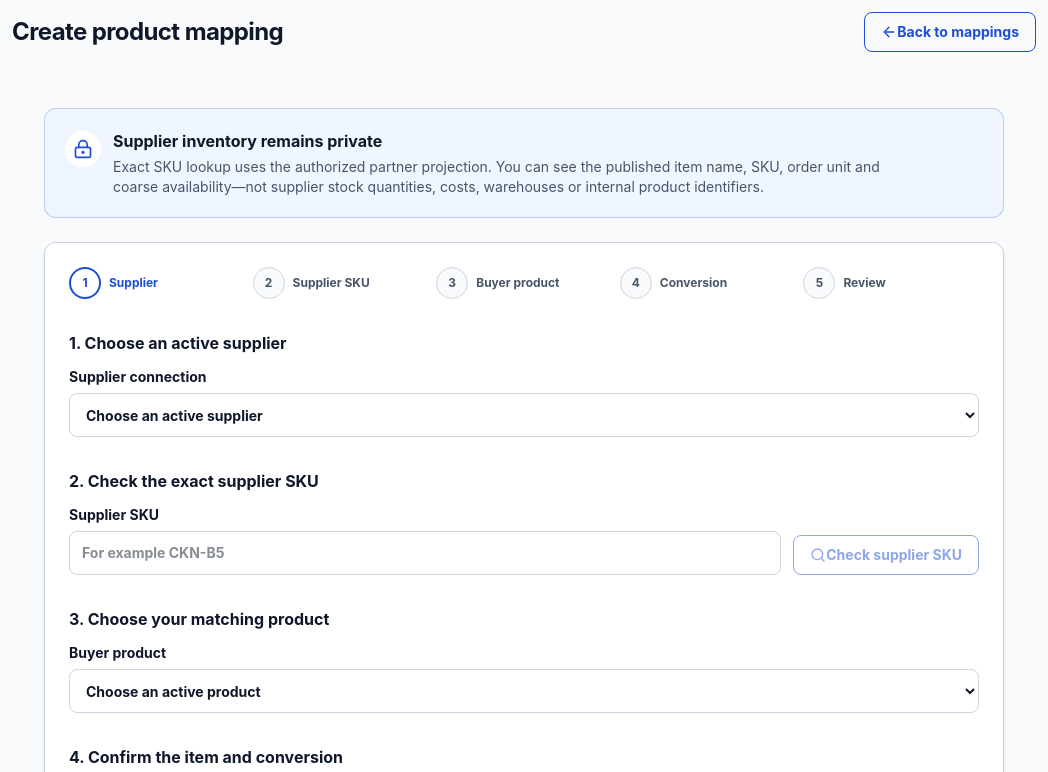
ProductMappingWizardScreen › shows SKU_NOT_FOUND when lookup fails with SKU_NOT_FOUND
Select "Supplier A (@supp-a)" in the dropdown labelled "Supplier connection". click: (524, 415)
box: [69,393,979,437]
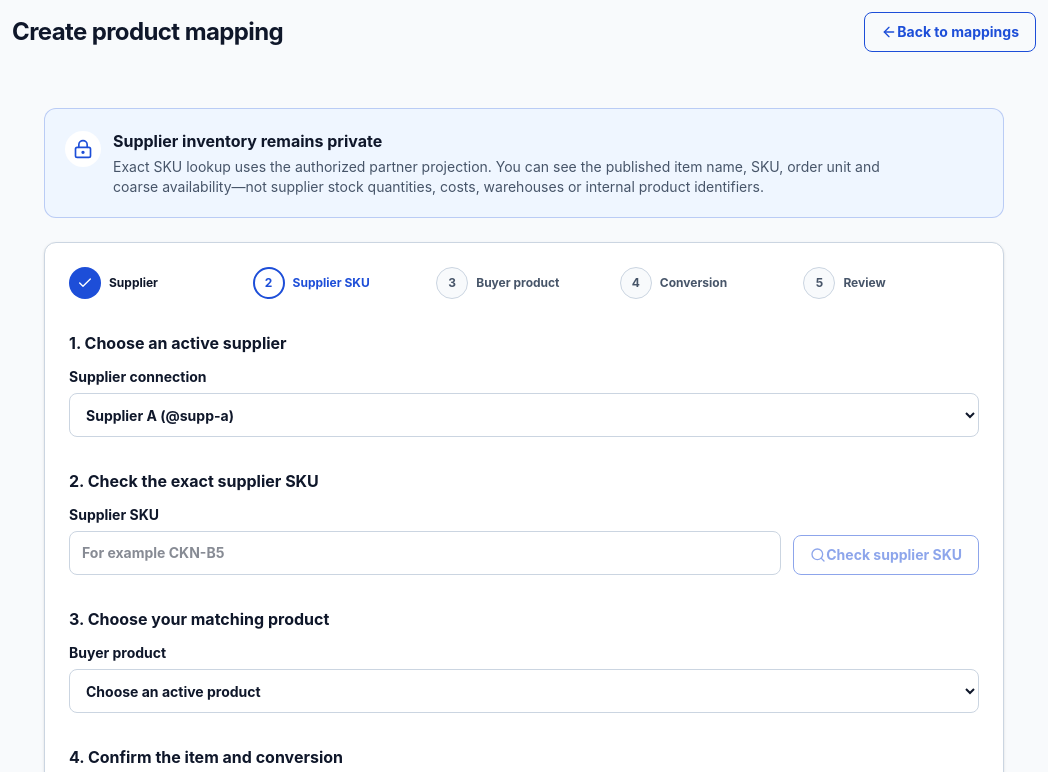
Type "SKU123" into the field labelled "Supplier SKU". click: (425, 553)
box: [69,531,781,575]
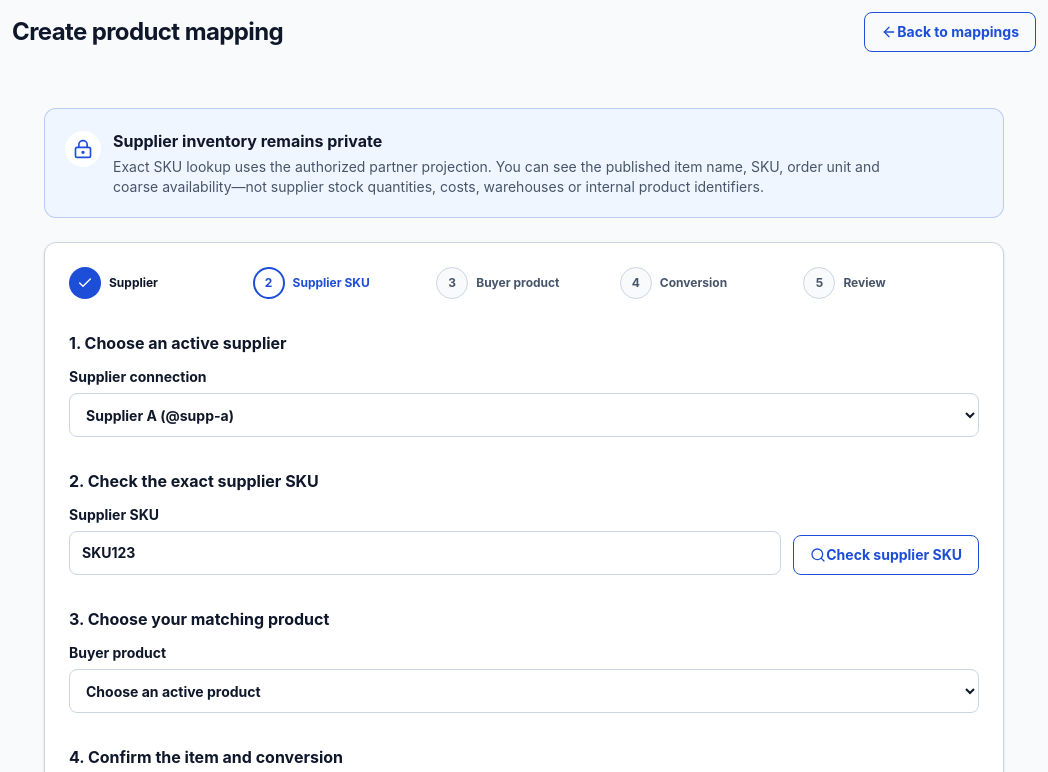
Click the button "Check supplier SKU". click: (886, 555)
box: [793,535,979,575]
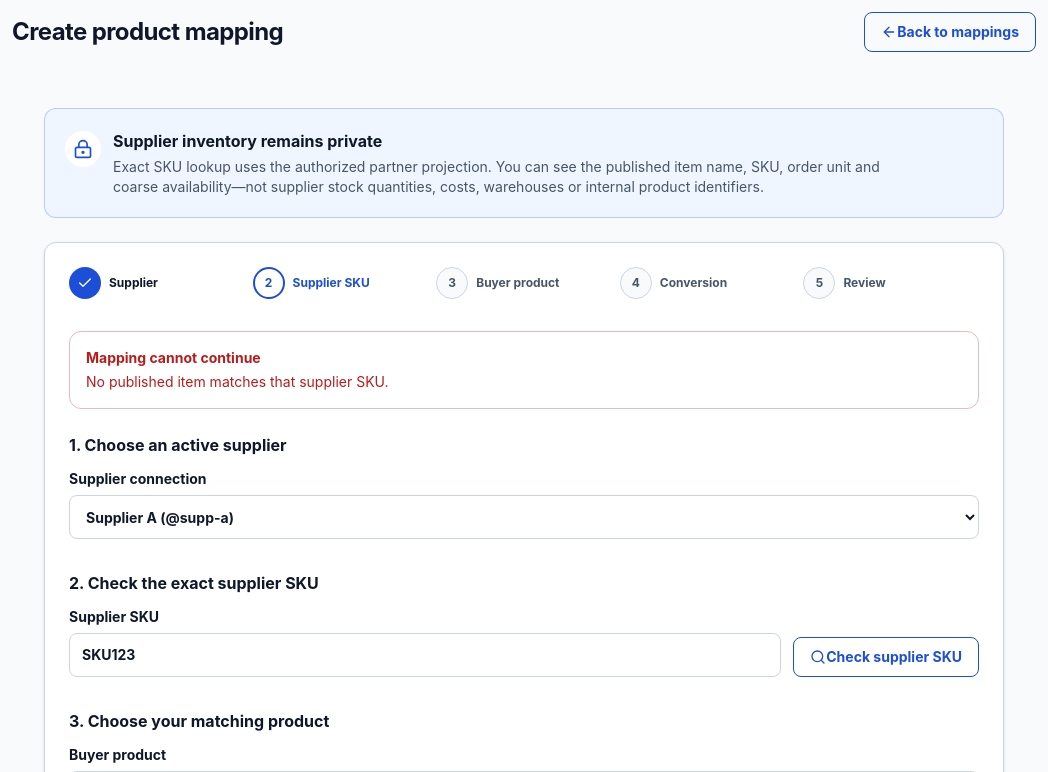
Check: the text "No published item matches that supplier SKU." is shown, box [86,373,388,390]
